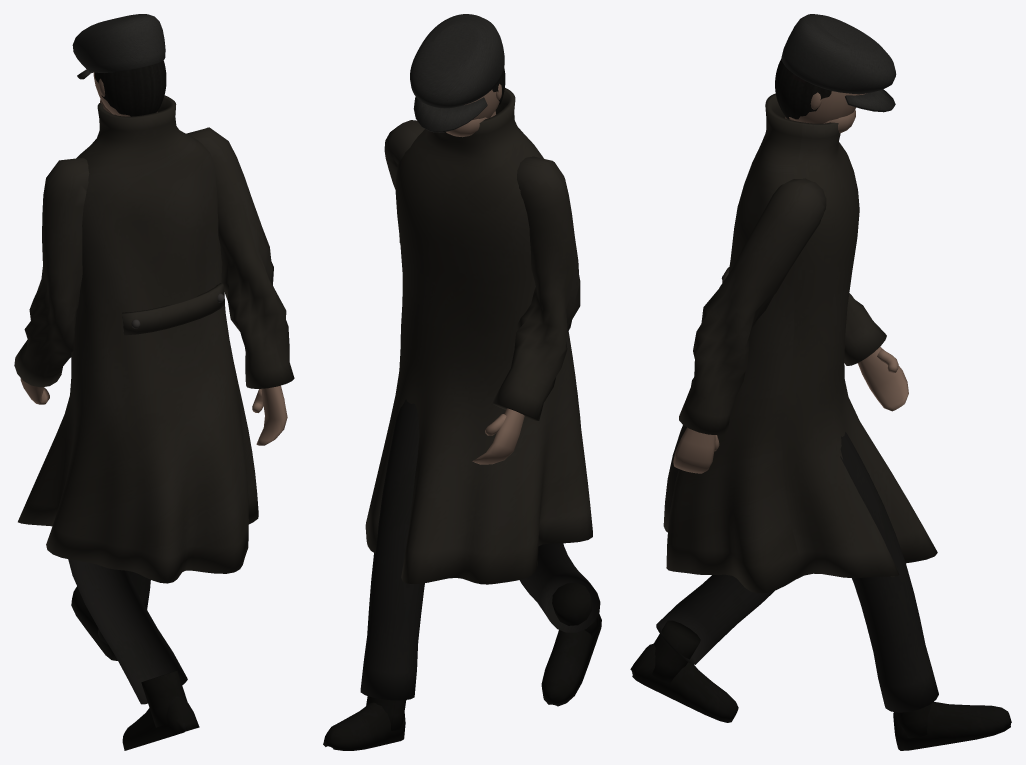
File: walker-man-coat.glb
3 renders of one model, left to right at view 1: azimuth 30°, elevation 25°; view 2: azimuth 150°, elevation 25°; view 3: azimuth 270°, elevation 25°, orthographic. The views are drawn at different scales.
Visible parts, largest first — view 1: walker-man-coat-body; view 2: walker-man-coat-body; view 3: walker-man-coat-body.
Part boxes in pixels (x1,y1,x2,y2): walker-man-coat-body: (14,14,294,750); walker-man-coat-body: (323,14,601,750); walker-man-coat-body: (630,14,1011,750).
Bounding box in the file's own units: 0.5432 × 1.74 × 0.8366.
Materials: 7 (5 with a texture image).
